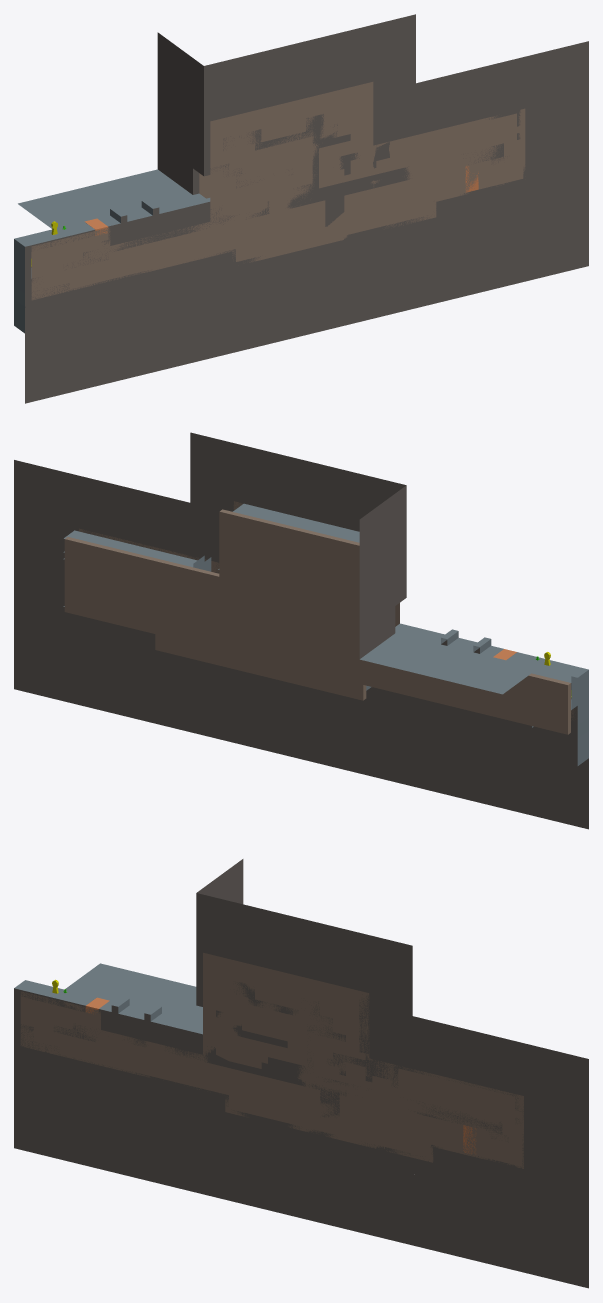
File: Level_1.fbx
3 renders of one model, top to bottom at view 1: azimuth 30°, elevation 25°; view 2: azimuth 150°, elevation 25°; view 3: azimuth 330°, elevation 25°, orthographic.
Parts seen in each view (by area): view 1: Level1_Fill, Level1_LightBlock, Level1_BG, Level_1, Level_1_005, Level_1_006, Level_1_007, Level_1_001, Level_1_004, Level_1_002, Level_1_003; view 2: Level1_Fill, Level1_BGWall, Level1_BG, Level_1, Level_1_001, Level_1_006, Level_1_003, Level_1_007, Level_1_005, Level1_LightBlock; view 3: Level1_Fill, Level1_LightBlock, Level_1, Level_1_005, Level1_BG, Level_1_007, Level_1_006, Level_1_001, Level_1_003, Level_1_004, Level_1_002.
Part boxes in pixels (box(x1,y1,x2,y2)): Level1_Fill: box(25, 14, 588, 403); Level1_LightBlock: box(31, 82, 525, 300); Level1_BG: box(18, 32, 199, 228); Level_1: box(70, 215, 433, 322); Level_1_005: box(66, 183, 312, 269); Level_1_006: box(14, 221, 95, 333); Level_1_007: box(433, 103, 529, 233); Level_1_001: box(193, 74, 377, 188); Level_1_004: box(312, 143, 507, 226); Level_1_002: box(223, 114, 350, 182); Level_1_003: box(339, 107, 516, 175); Level1_Fill: box(14, 432, 588, 829); Level1_BGWall: box(64, 509, 570, 734); Level1_BG: box(359, 494, 537, 694); Level_1: box(172, 654, 543, 746); Level_1_001: box(218, 493, 406, 605); Level_1_006: box(506, 652, 588, 765); Level_1_003: box(80, 527, 219, 573); Level_1_007: box(63, 524, 172, 656); Level_1_005: box(395, 623, 503, 656); Level1_LightBlock: box(79, 501, 575, 720); Level1_Fill: box(14, 885, 588, 1288); Level1_LightBlock: box(20, 952, 523, 1168); Level_1: box(59, 1054, 430, 1178); Level_1_005: box(54, 997, 305, 1086); Level1_BG: box(65, 859, 243, 1023); Level_1_007: box(430, 1090, 528, 1201); Level_1_006: box(14, 980, 96, 1087); Level_1_001: box(196, 944, 373, 1055); Level_1_003: box(327, 1052, 515, 1096); Level_1_004: box(308, 1077, 508, 1142); Level_1_002: box(235, 982, 345, 1067).
Bounding box in the file's own units: 88.32 × 44 × 12.52.
